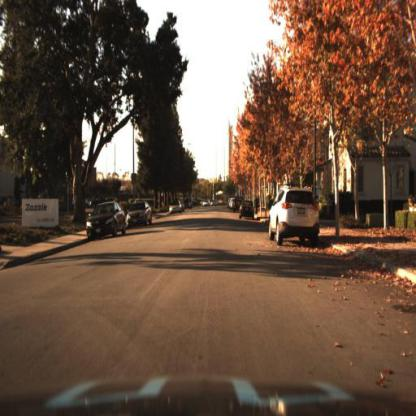car: (267, 178, 323, 251), (84, 195, 131, 249), (126, 201, 157, 232), (239, 199, 257, 222), (168, 198, 183, 218)
